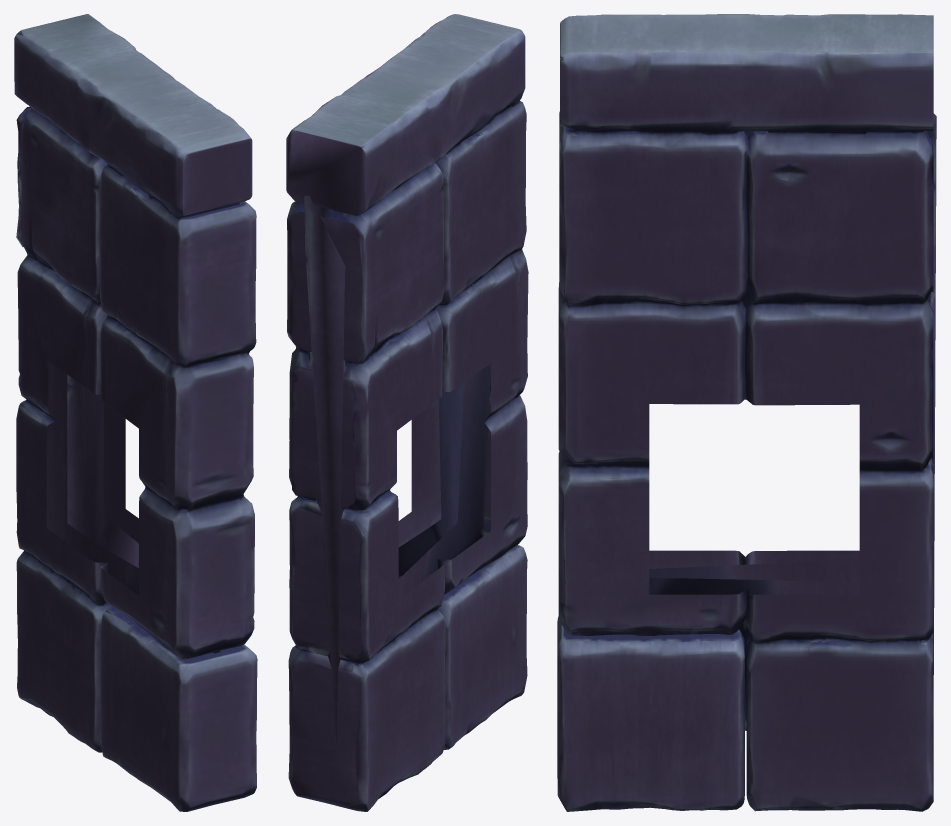
Rendered from windowedWall.glb.
The picture shows the model from 3 angles, left to right: view 1: azimuth 30°, elevation 25°; view 2: azimuth 150°, elevation 25°; view 3: azimuth 270°, elevation 25°; orthographic projection. The views are drawn at different scales.
Parts seen in each view (by area): view 1: Wall_01; view 2: Wall_01; view 3: Wall_01.
Boxes of the visible parts, x1,y1,x2,y2 form: Wall_01: [14, 14, 257, 811]; Wall_01: [286, 14, 528, 811]; Wall_01: [557, 14, 936, 811].
Bounding box in the file's own units: 0.0829 × 0.6376 × 0.2886.
Materials: 1 (1 with a texture image).
